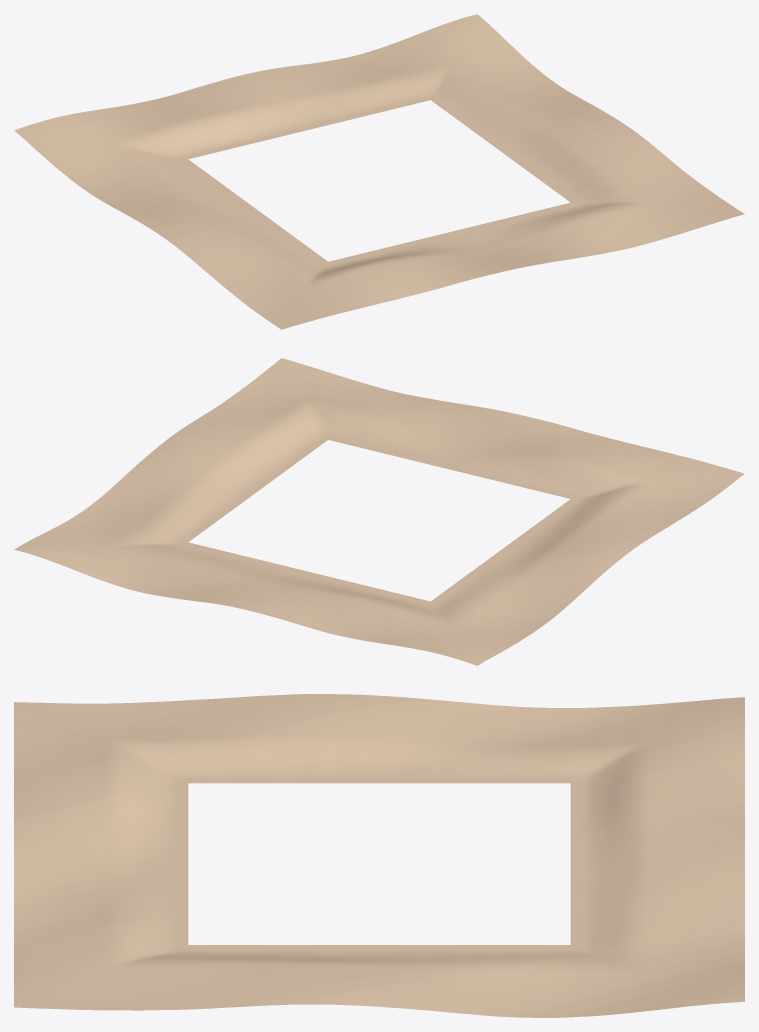
File: ChocolateFactory_Background.fbx
The picture shows the model from 3 angles, top to bottom: view 1: azimuth 30°, elevation 25°; view 2: azimuth 150°, elevation 25°; view 3: azimuth 270°, elevation 25°; orthographic projection. The views are drawn at different scales.
Parts seen in each view (by area): view 1: CHO_Terrain_Decor; view 2: CHO_Terrain_Decor; view 3: CHO_Terrain_Decor.
Boxes of the visible parts, x1,y1,x2,y2 form: CHO_Terrain_Decor: (14,14,744,329); CHO_Terrain_Decor: (14,358,744,665); CHO_Terrain_Decor: (14,694,744,1017).
Bounding box in the file's own units: 650 × 16.78 × 650.
